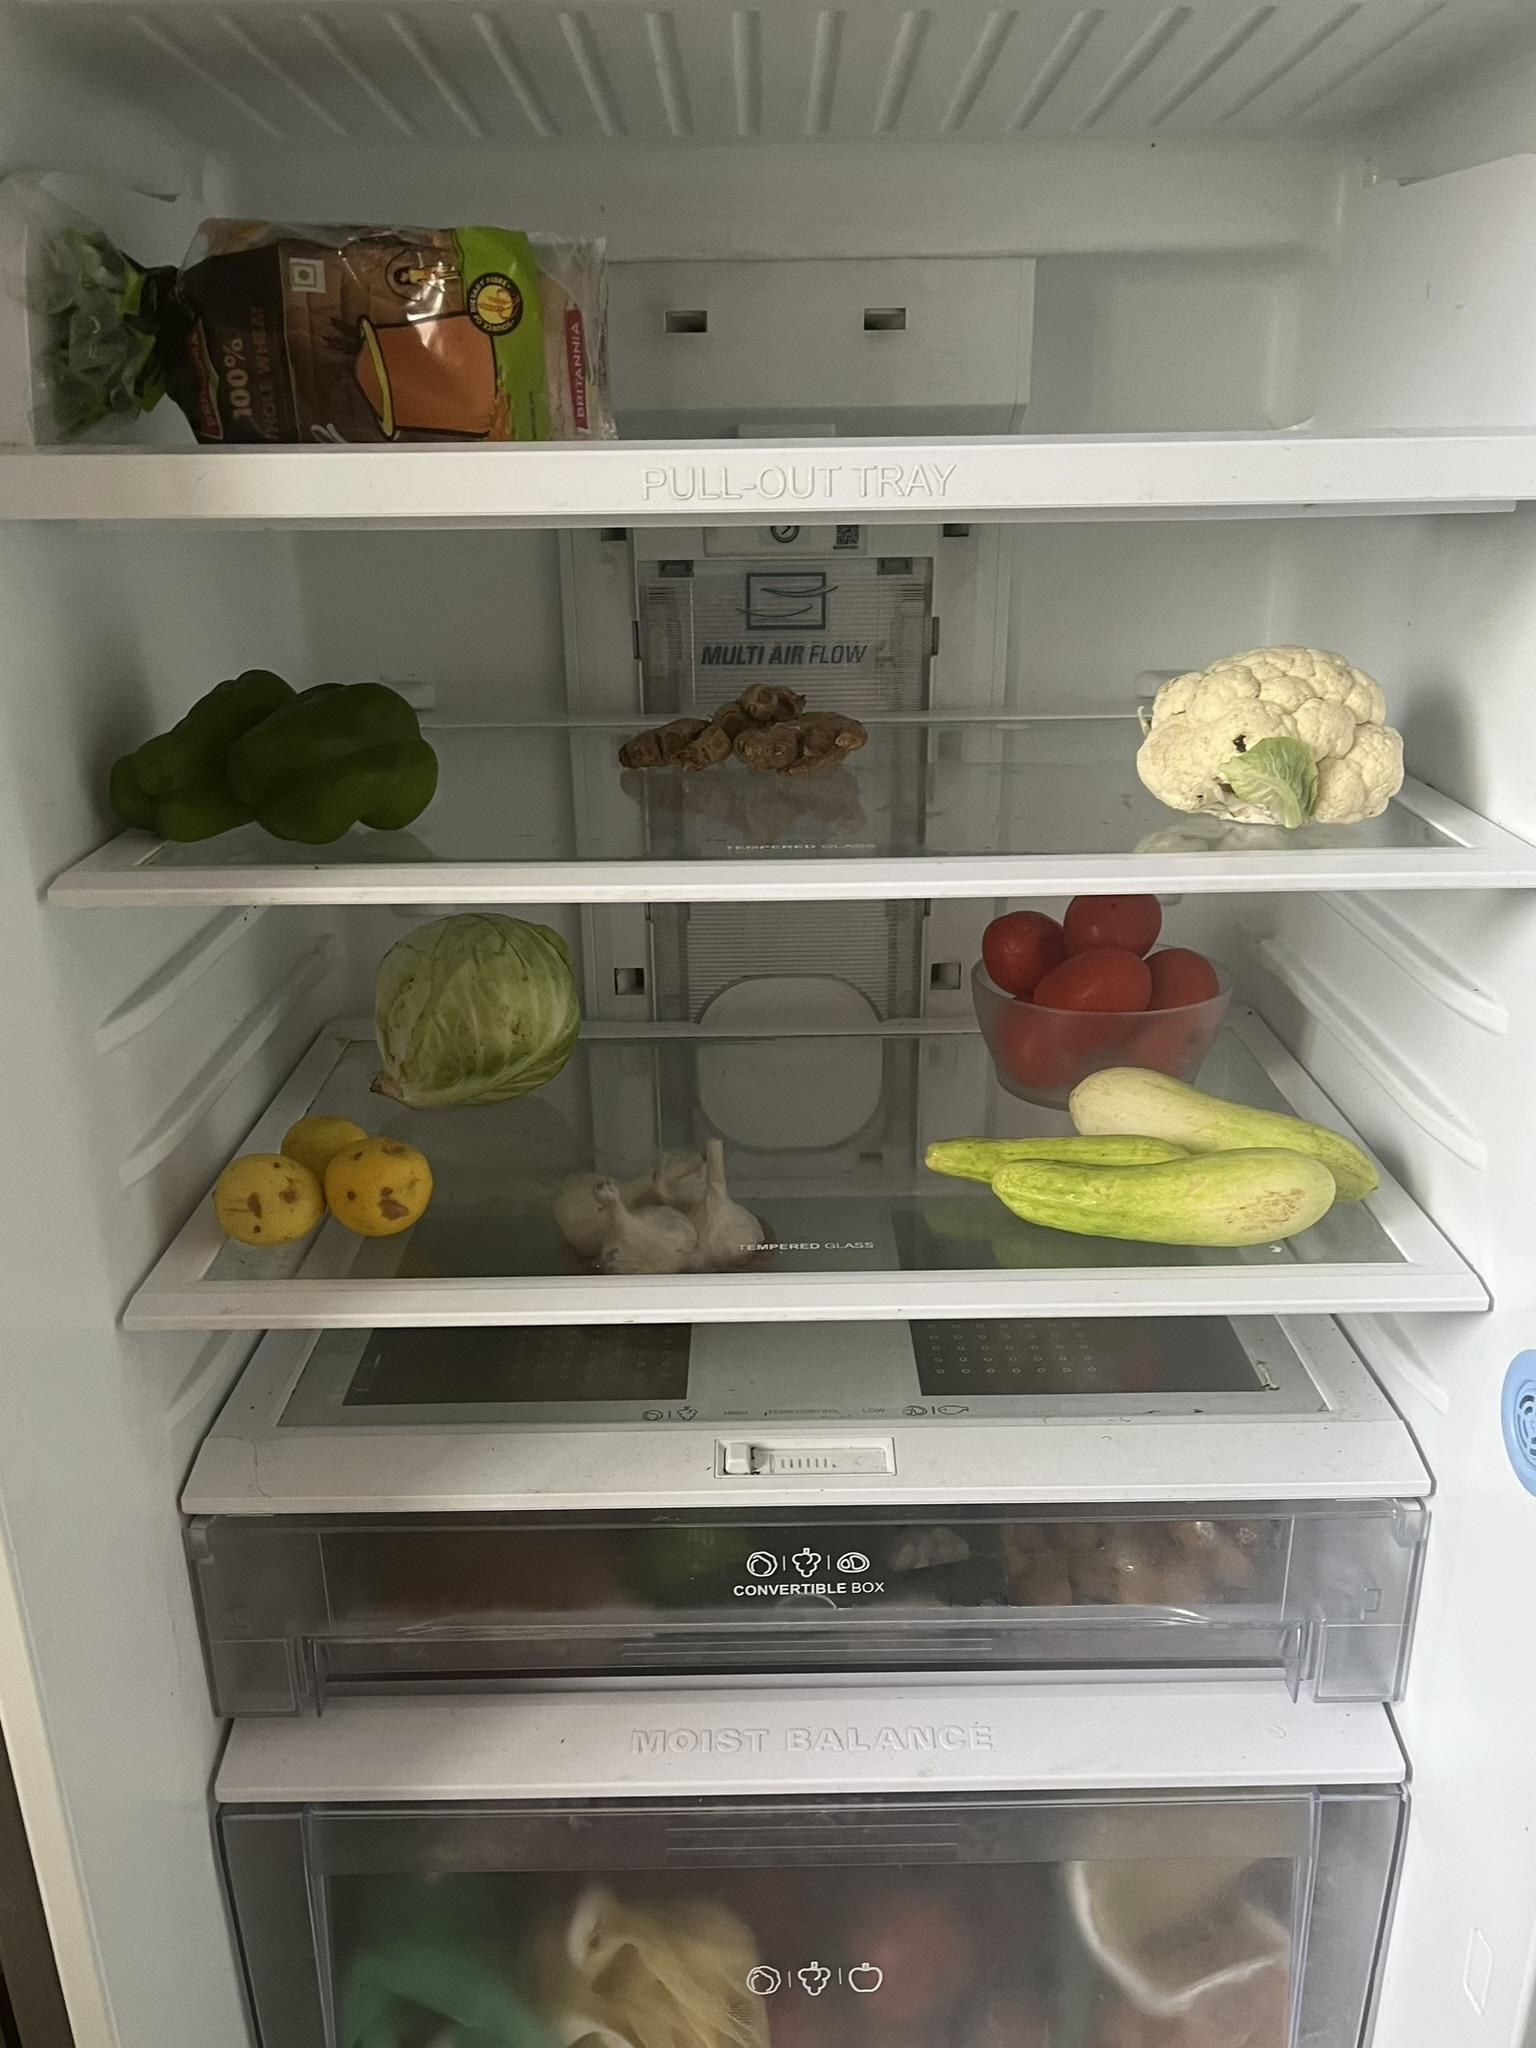bread: (37, 213, 617, 457)
cabbage: (350, 903, 600, 1117)
capsicum: (90, 653, 450, 870)
cauliflower: (1133, 637, 1413, 833)
cucumber: (913, 1060, 1400, 1253)
garlic: (563, 1140, 780, 1273)
ginger: (617, 667, 883, 800)
lemon: (203, 1100, 443, 1253)
tomato: (970, 893, 1247, 1103)
